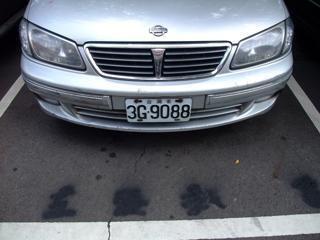plate: (122, 96, 195, 124)
